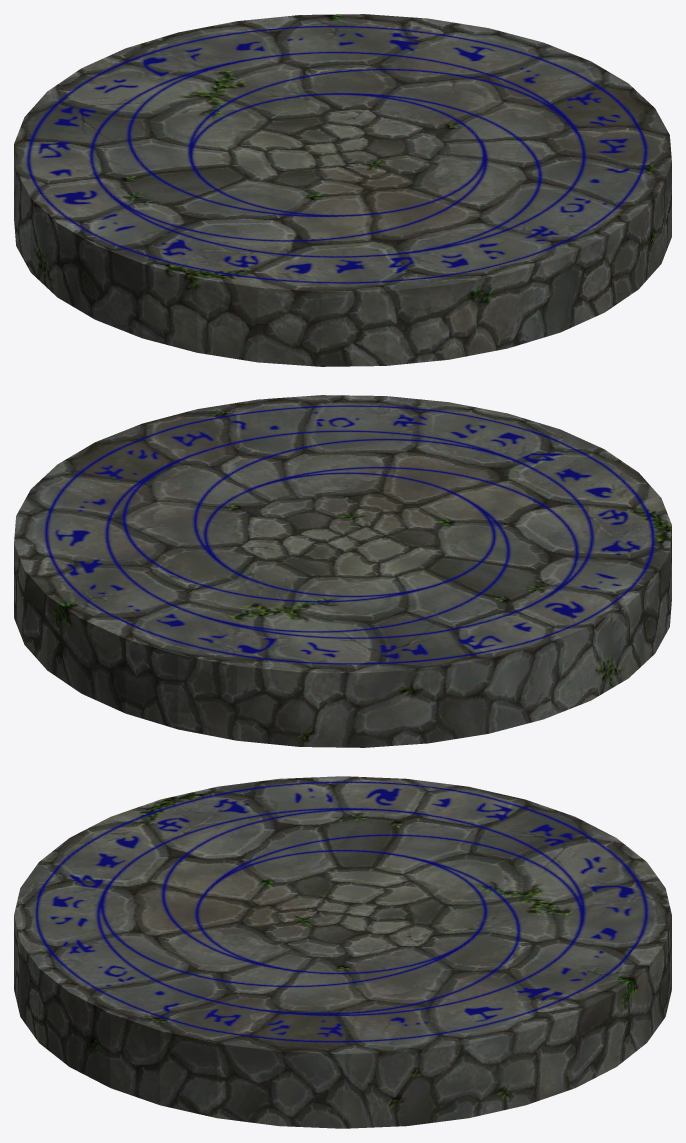
File: waypoint_circle_001.glb
The picture shows the model from 3 angles, top to bottom: view 1: azimuth 30°, elevation 25°; view 2: azimuth 150°, elevation 25°; view 3: azimuth 270°, elevation 25°; orthographic projection.
Parts seen in each view (by area): view 1: Cylinder; view 2: Cylinder; view 3: Cylinder.
Part boxes in pixels (x1,y1,x2,y2): Cylinder: (14, 14, 671, 366); Cylinder: (14, 395, 671, 747); Cylinder: (14, 776, 671, 1128).
Bounding box in the file's own units: 2 × 0.25 × 2.
Materials: 1 (1 with a texture image).
